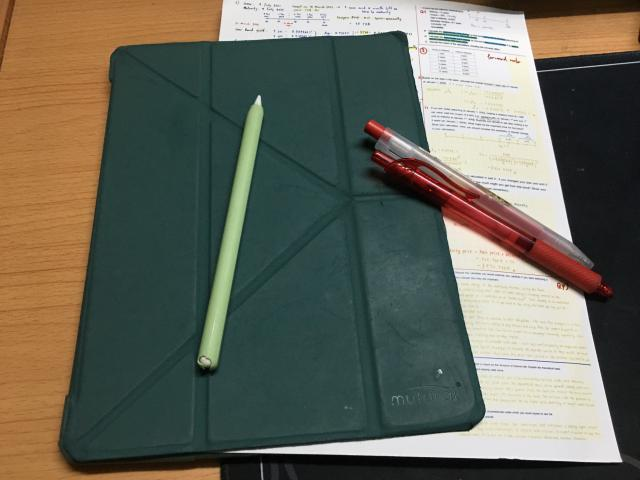Pen: (365, 120, 612, 296)
paper: (205, 0, 622, 466)
